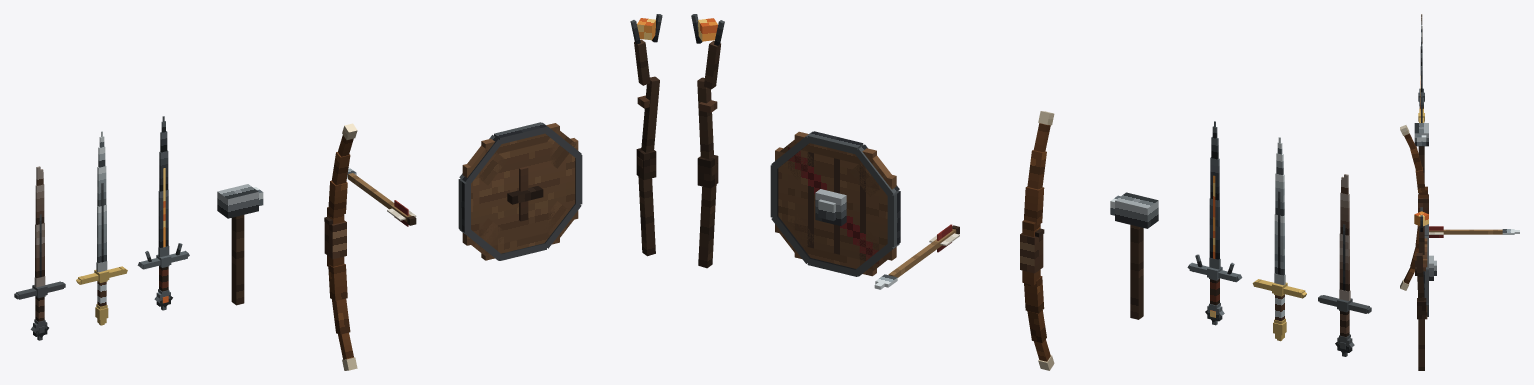
The model's file is weapons.gltf.
The picture shows the model from 3 angles, left to right: view 1: azimuth 30°, elevation 25°; view 2: azimuth 150°, elevation 25°; view 3: azimuth 270°, elevation 25°; orthographic projection. The views are drawn at different scales.
Visible parts, largest first — view 1: shield_core, bow_lower, bow_upper, sword_ash, hammer_handle, hammer_head, staff_low, sword_guard, sword_rusty, staff_mid, bow_grip, shield_left (+10 smaller); view 2: shield_core, bow_upper, bow_lower, hammer_handle, hammer_head, staff_low, sword_ash, sword_guard, sword_rusty, staff_mid, bow_grip, shield_top (+10 smaller); view 3: bow_upper, arrow_shaft, staff_low, staff_mid, hammer_head, bow_lower, staff_wrap, staff_ember, bow_grip, shield_rim2, sword_ash, staff_top (+3 smaller).
Part boxes in pixels (box(x1,y1,x2,y2)): shield_core: box(479, 141, 565, 249); bow_lower: box(328, 264, 353, 359); bow_upper: box(328, 135, 353, 216); sword_ash: box(154, 116, 172, 307); hammer_handle: box(231, 215, 244, 305); hammer_head: box(217, 184, 258, 218); staff_low: box(637, 156, 655, 256); sword_guard: box(97, 131, 106, 263); sword_rusty: box(30, 172, 48, 337); staff_mid: box(641, 76, 659, 152); bow_grip: box(324, 220, 346, 259); shield_left: box(462, 164, 479, 245); shield_core: box(788, 147, 878, 263); bow_upper: box(1024, 123, 1050, 225); bow_lower: box(1024, 276, 1050, 361); hammer_handle: box(1130, 225, 1143, 319); hammer_head: box(1115, 192, 1158, 228); staff_low: box(698, 164, 717, 268); sword_ash: box(1205, 121, 1224, 322); sword_guard: box(1274, 137, 1284, 275); sword_rusty: box(1335, 180, 1354, 353); staff_mid: box(697, 77, 713, 159); bow_grip: box(1020, 233, 1043, 273); shield_top: box(794, 131, 876, 164); bow_upper: box(1404, 133, 1425, 192); arrow_shaft: box(1429, 229, 1502, 234); staff_low: box(1418, 319, 1424, 370); staff_mid: box(1416, 252, 1424, 301); hammer_head: box(1414, 123, 1428, 146); bow_lower: box(1404, 225, 1418, 283); staff_wrap: box(1417, 298, 1426, 319); staff_ember: box(1414, 211, 1428, 226); bow_grip: box(1418, 194, 1428, 213); shield_rim2: box(1423, 270, 1428, 303); sword_ash: box(1421, 41, 1422, 122); staff_top: box(1419, 226, 1424, 254).
Size of the model in its own units: 6.52 by 2.77 by 1.57.
Materials: 1 (1 with a texture image).
